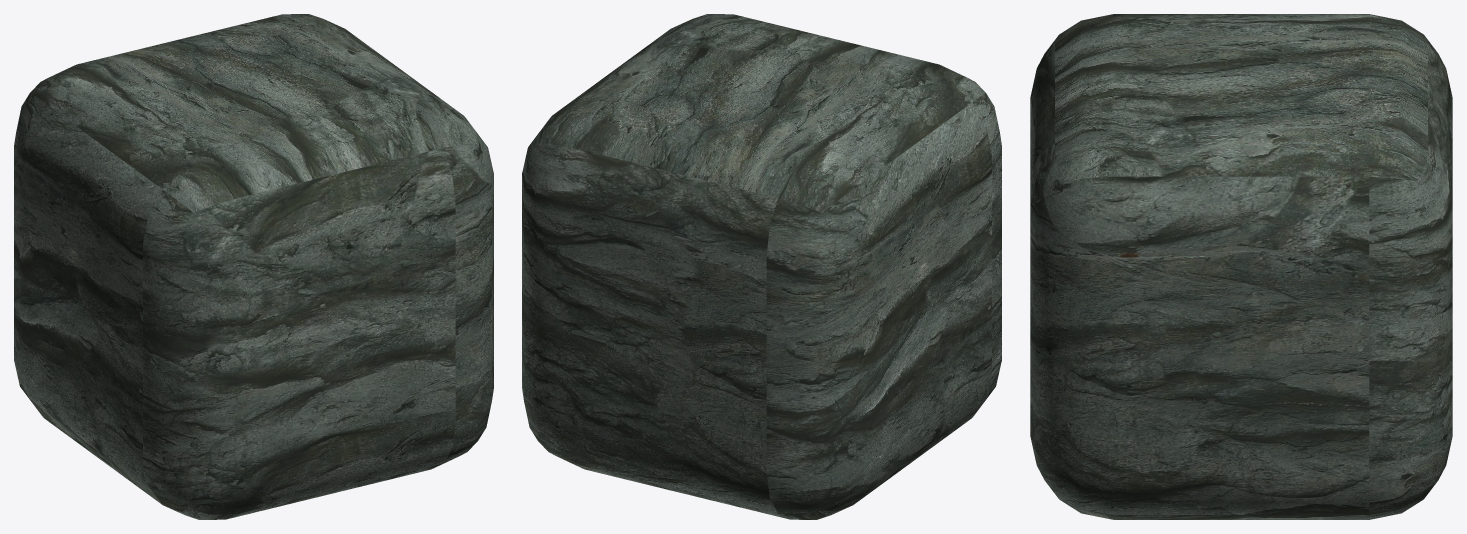
File: block.fbx
The picture shows the model from 3 angles, left to right: view 1: azimuth 30°, elevation 25°; view 2: azimuth 150°, elevation 25°; view 3: azimuth 270°, elevation 25°; orthographic projection. The views are drawn at different scales.
Visible parts, largest first — view 1: Cube; view 2: Cube; view 3: Cube.
Part boxes in pixels (box(x1,y1,x2,y2)): Cube: box(14, 14, 493, 519); Cube: box(522, 14, 1001, 519); Cube: box(1030, 14, 1452, 519).
Bounding box in the file's own units: 200 × 200 × 200.
Materials: 1 (1 with a texture image).
